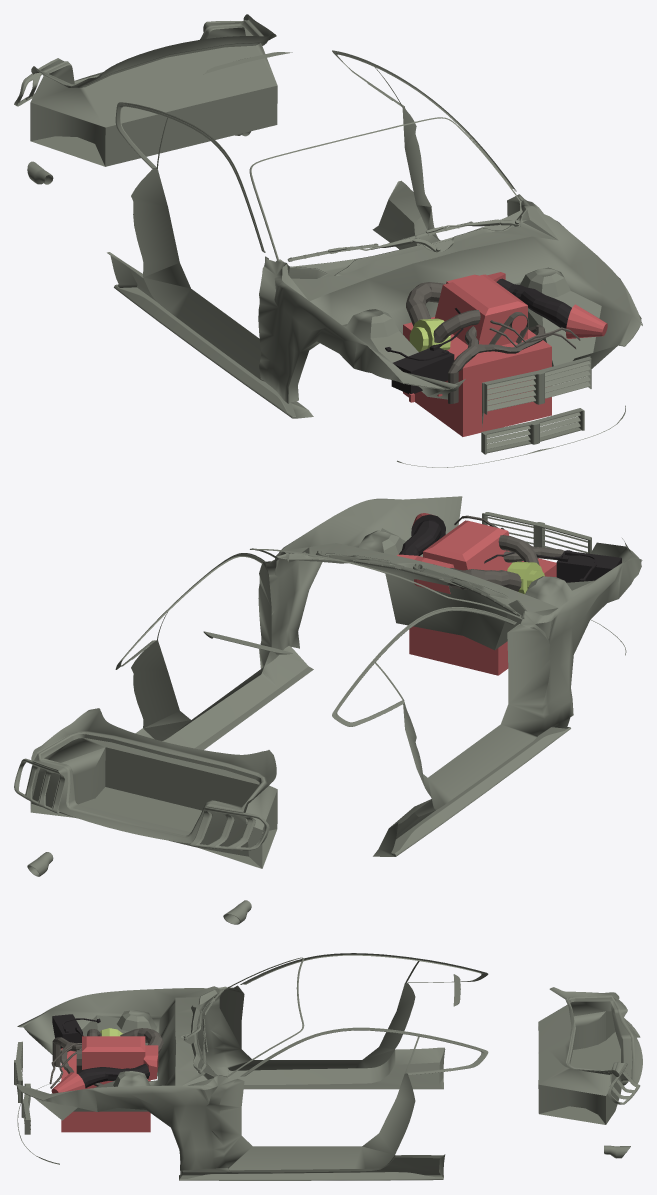
Rendered from Car2.fbx.
3 views of the same model, one above another, from view 1: azimuth 30°, elevation 25°; view 2: azimuth 150°, elevation 25°; view 3: azimuth 270°, elevation 25° (orthographic). The views are drawn at different scales.
Visible parts, largest first — view 1: UnderBody1, Engine; view 2: UnderBody1, Engine; view 3: UnderBody1, Engine.
Part boxes in pixels (bbox=[...]): UnderBody1: bbox=[14, 14, 642, 467]; Engine: bbox=[385, 272, 607, 436]; UnderBody1: bbox=[14, 496, 642, 924]; Engine: bbox=[397, 513, 621, 675]; UnderBody1: bbox=[14, 953, 642, 1180]; Engine: bbox=[49, 1014, 163, 1132].
Size of the model in its own units: 184 by 116 by 455.
